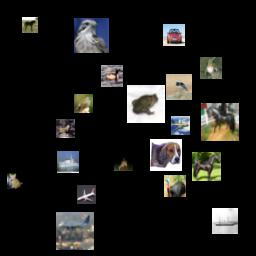airplane: (56, 212, 94, 250), (171, 116, 190, 135), (77, 185, 96, 204)
automobile: (163, 24, 185, 46)
bird: (74, 18, 109, 53), (166, 74, 192, 100), (164, 175, 186, 197), (101, 65, 123, 87), (74, 94, 93, 113)
cat: (7, 173, 23, 189)
deer: (114, 152, 133, 171), (56, 119, 75, 138)
dog: (150, 139, 182, 171)
frog: (127, 85, 165, 123), (200, 57, 222, 79)
ship: (212, 208, 238, 234), (57, 151, 79, 173)
